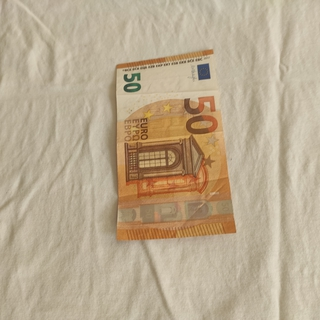50EUROFront: (114, 48, 237, 242)
